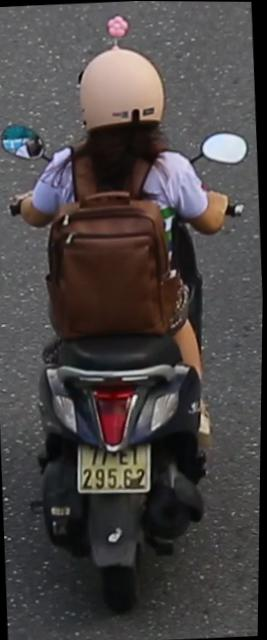LP: (72, 438, 159, 503)
helmet: (68, 39, 172, 159)
